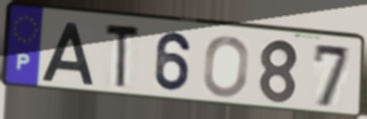6: (154, 29, 195, 94)
7: (311, 41, 352, 109)
8: (257, 37, 300, 106)
A: (39, 21, 96, 87)
O: (201, 34, 251, 99)
T: (104, 21, 142, 92)
